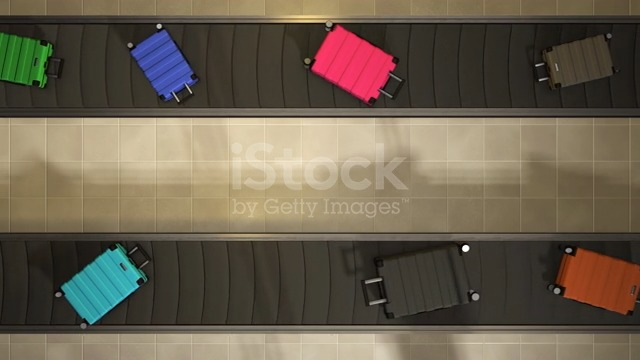Bag: (53, 242, 164, 334), (356, 244, 482, 323), (305, 20, 408, 108), (123, 23, 203, 112), (548, 246, 640, 320), (532, 26, 625, 96), (0, 27, 67, 94)
Handle: (358, 273, 392, 311), (376, 72, 408, 104), (39, 54, 70, 82), (126, 244, 156, 272), (172, 81, 198, 108), (531, 61, 555, 85)
